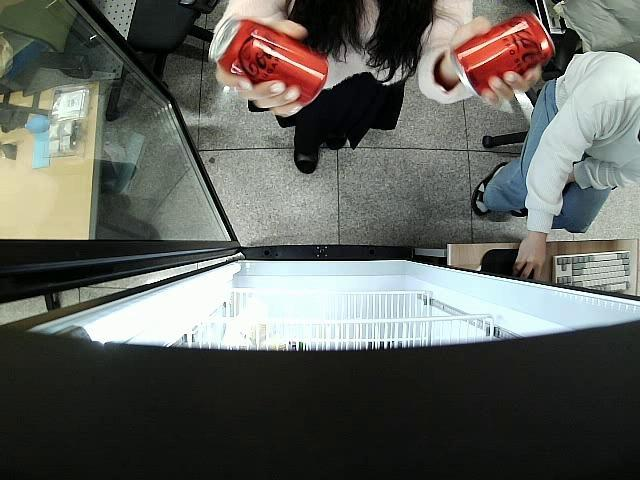11_cocaColaZero: (205, 12, 328, 107), (453, 11, 558, 96)
